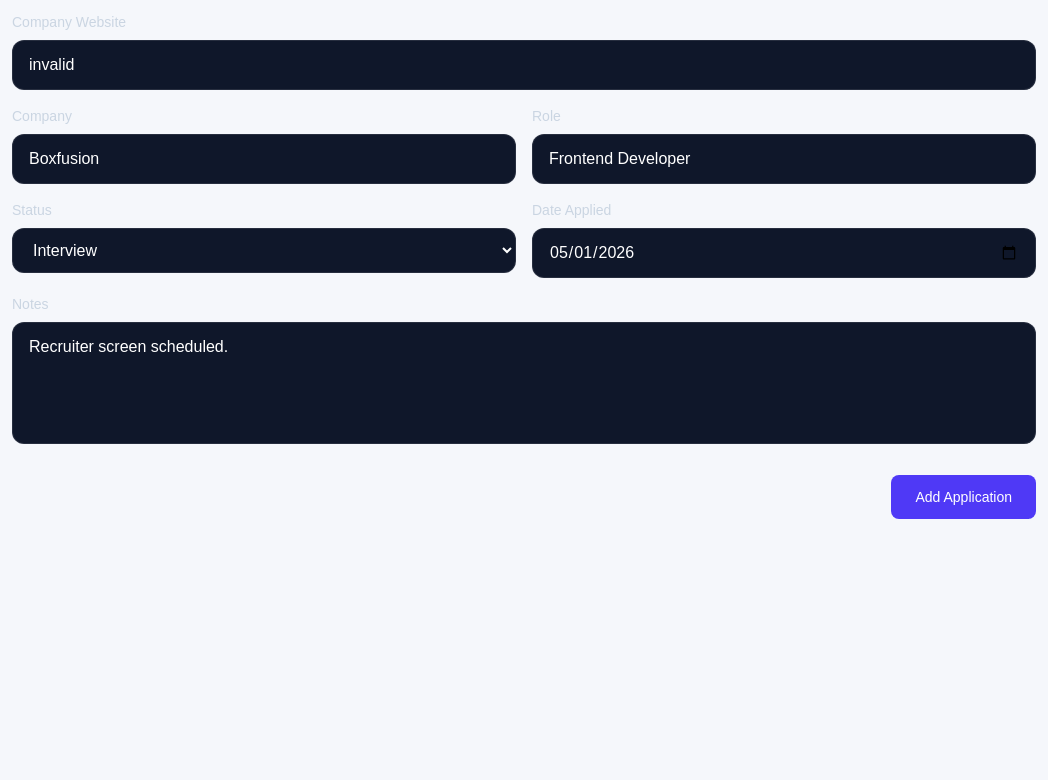
Test: ApplicationForm › blocks an invalid website while preserving the rest of the form
The width and height of the screenshot is (1048, 780).
Click the button "Add Application" at (964, 497), box [892,475,1036,519]
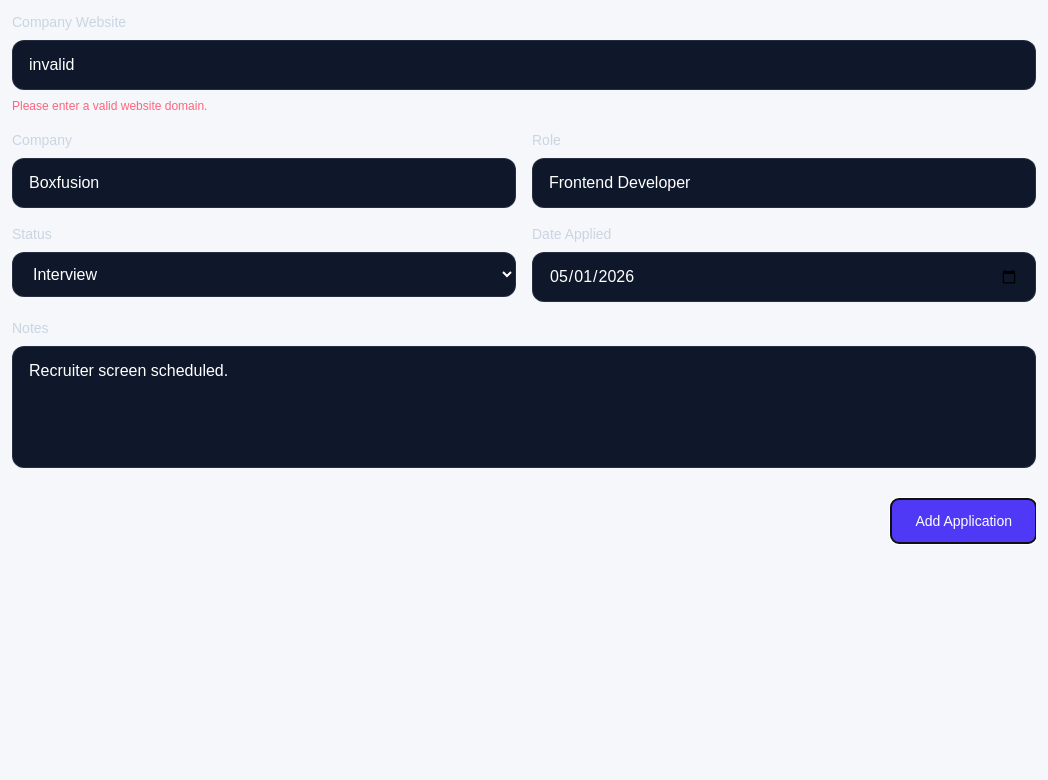
Check: the field labelled "Company" holds "Boxfusion", box [12,158,516,208]
Check: the text "Please enter a valid website domain." is shown, box [12,99,208,113]
